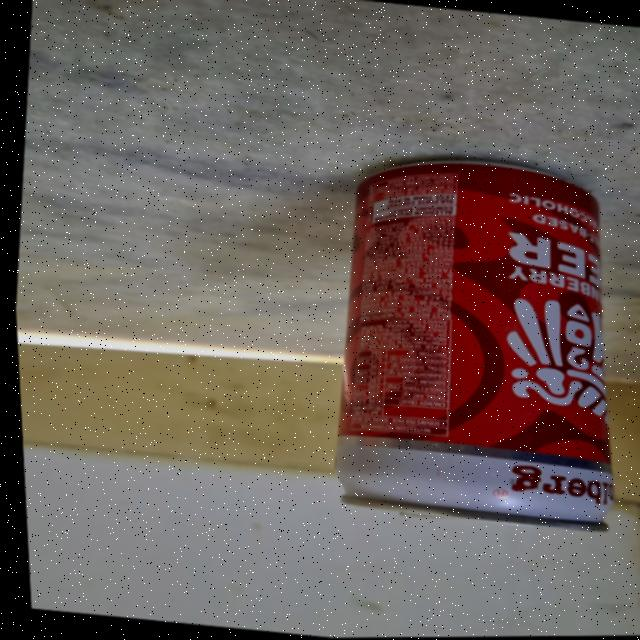Coolberg: (318, 157, 640, 550)
